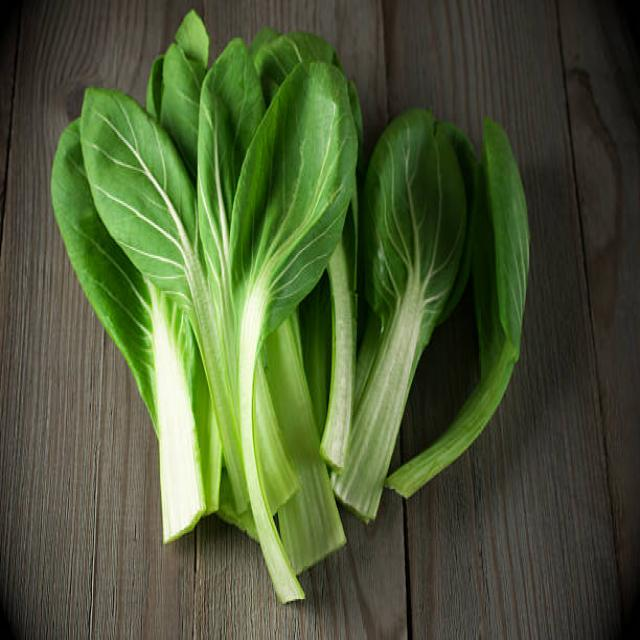bok choy: (275, 61, 406, 523), (96, 56, 227, 488)
